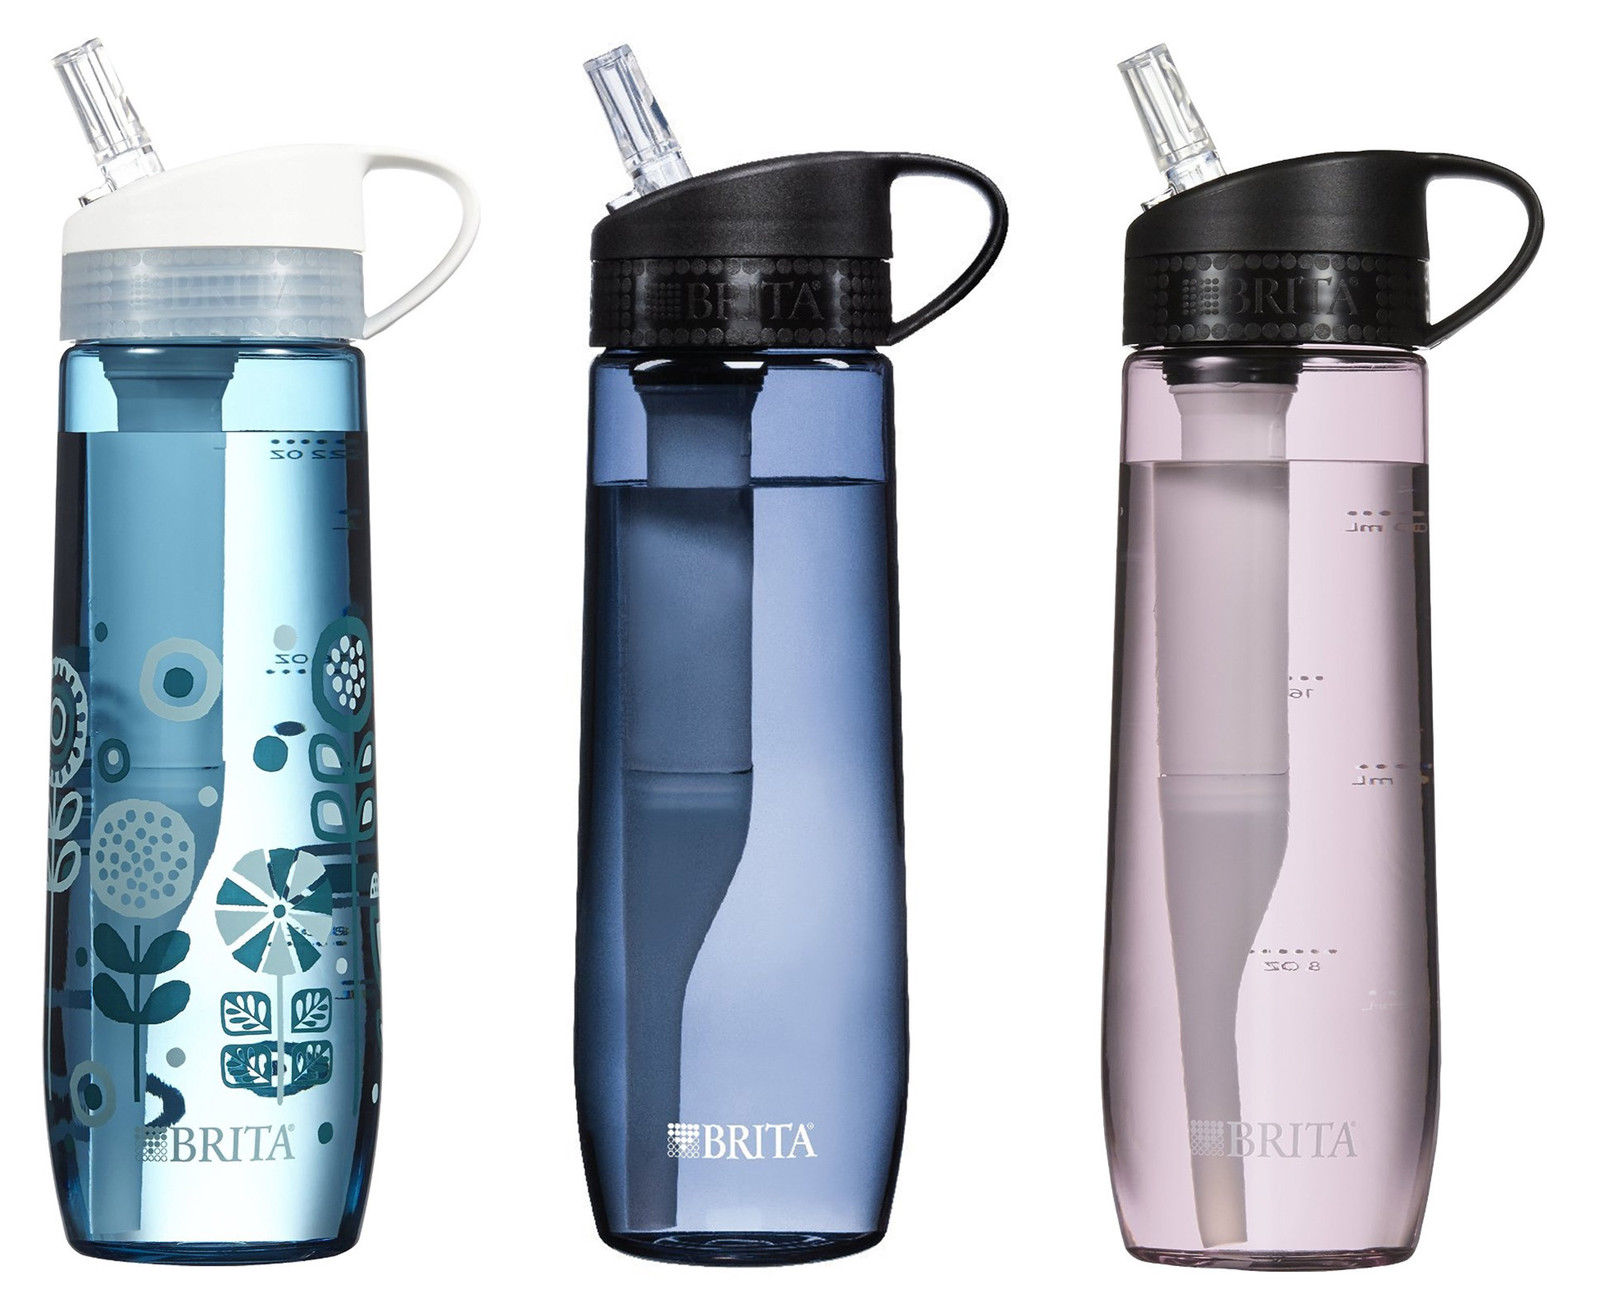Rec_Plastic: (1049, 25, 1464, 1257), (540, 52, 948, 1266), (16, 39, 405, 1290)
